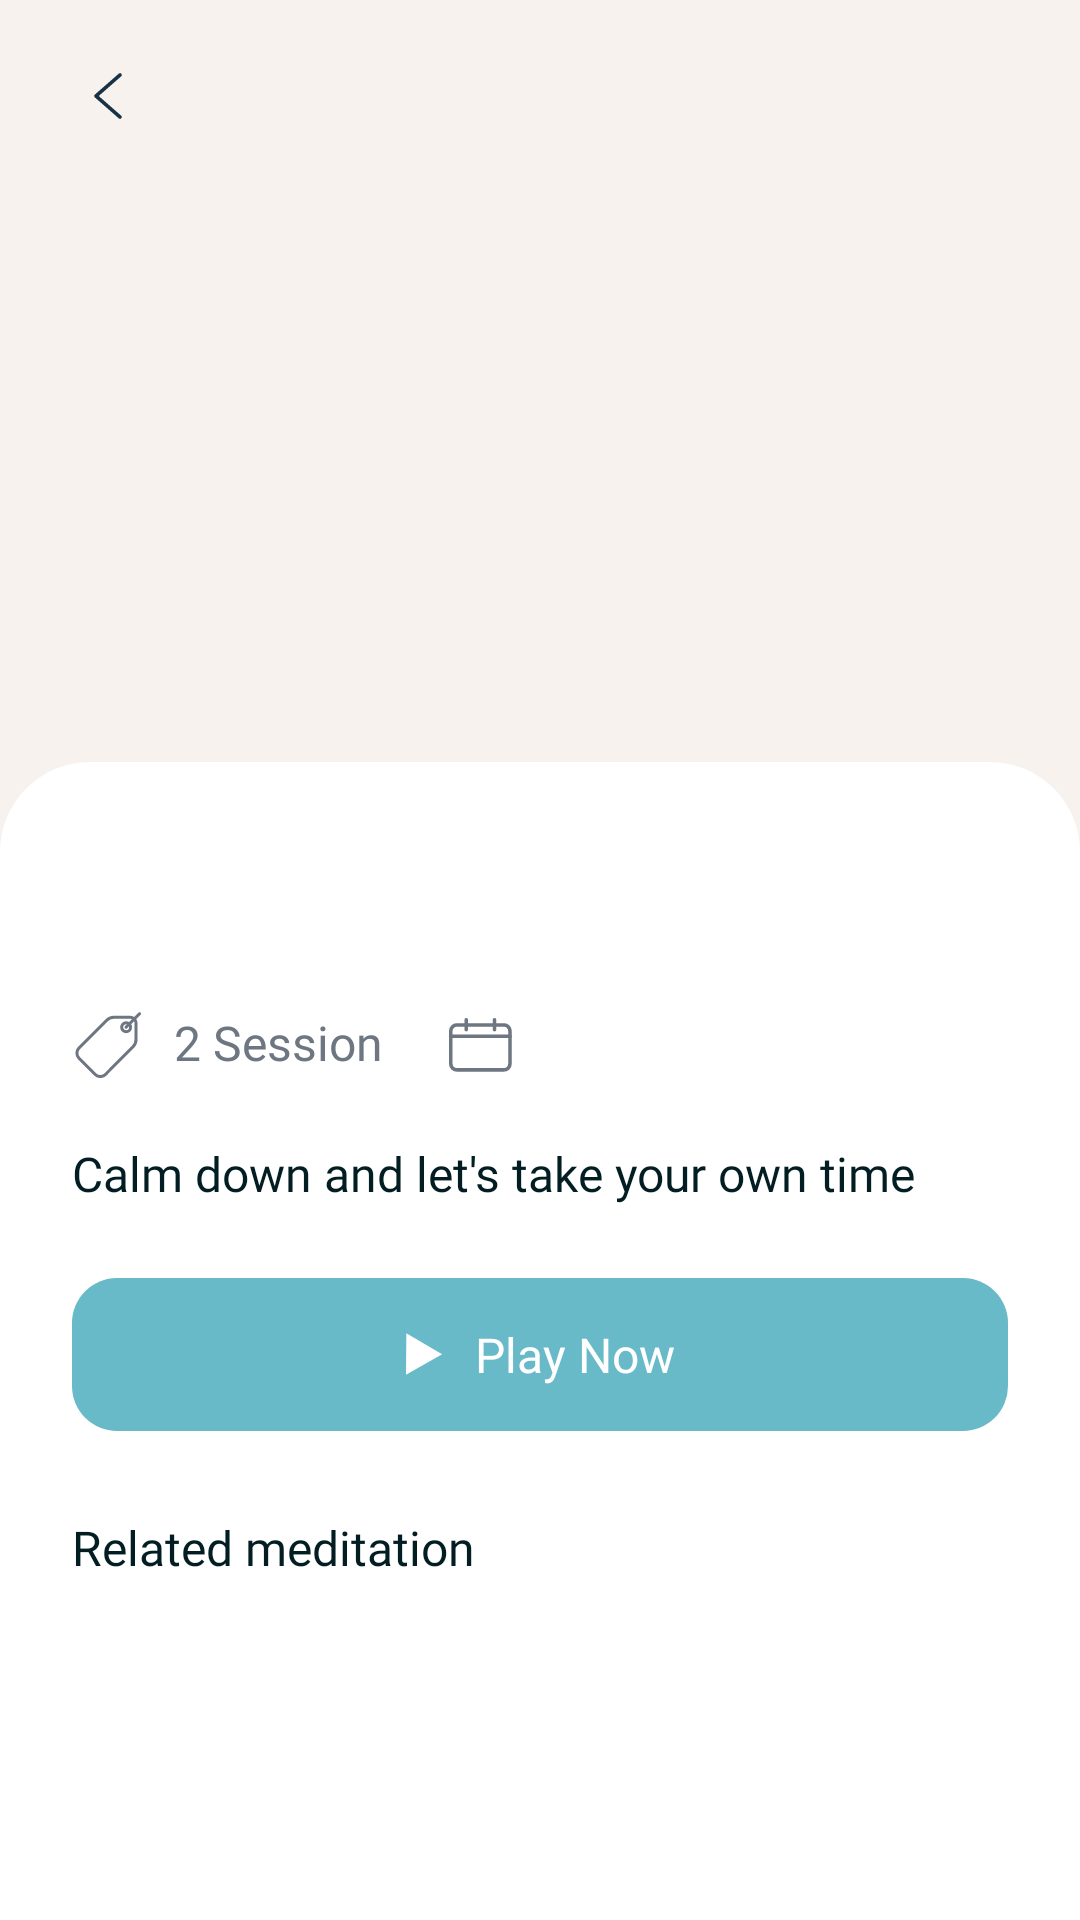

Icon click points for this 1080x1920 phone screenshot, format (x,y):
arrow: (108,96)
